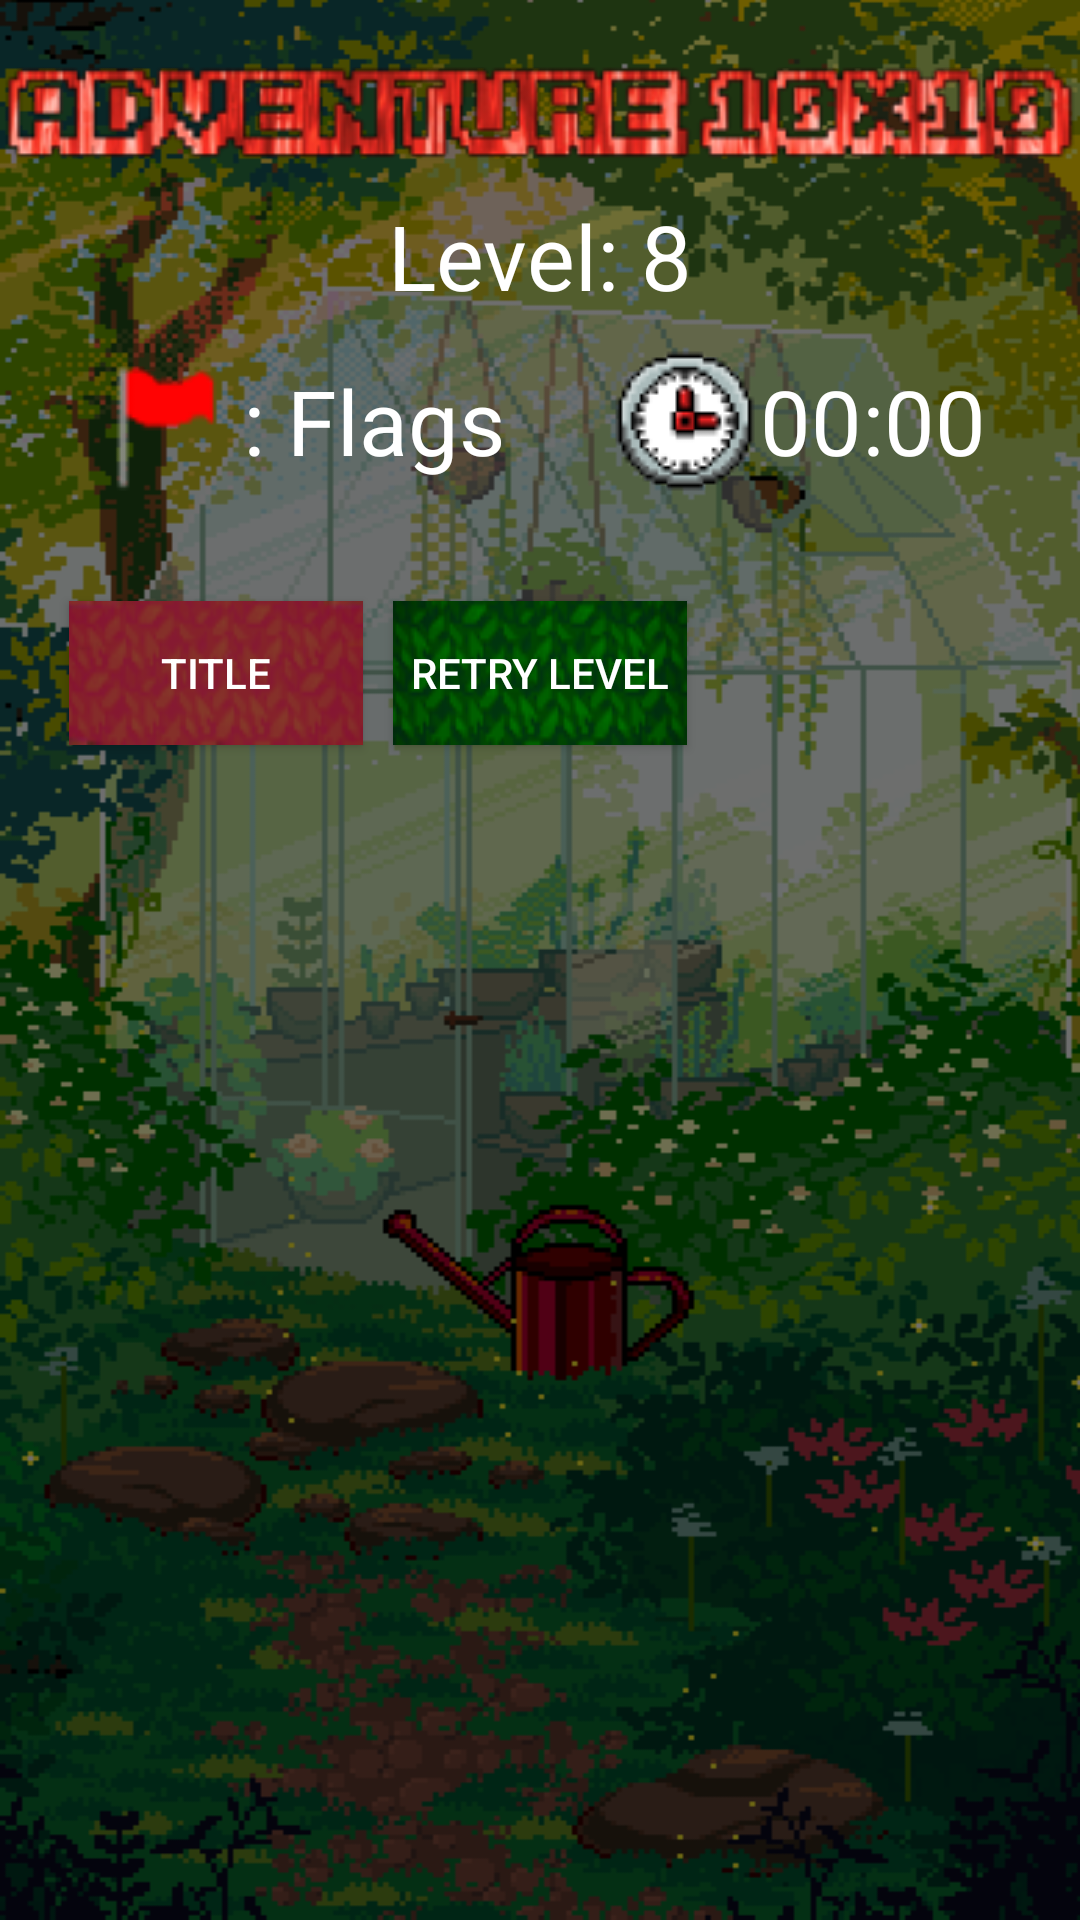

Icon click points for this 1080*1920 phone screenshot, format (x,y):
clock: (685,421)
uiflag: (168,421)
